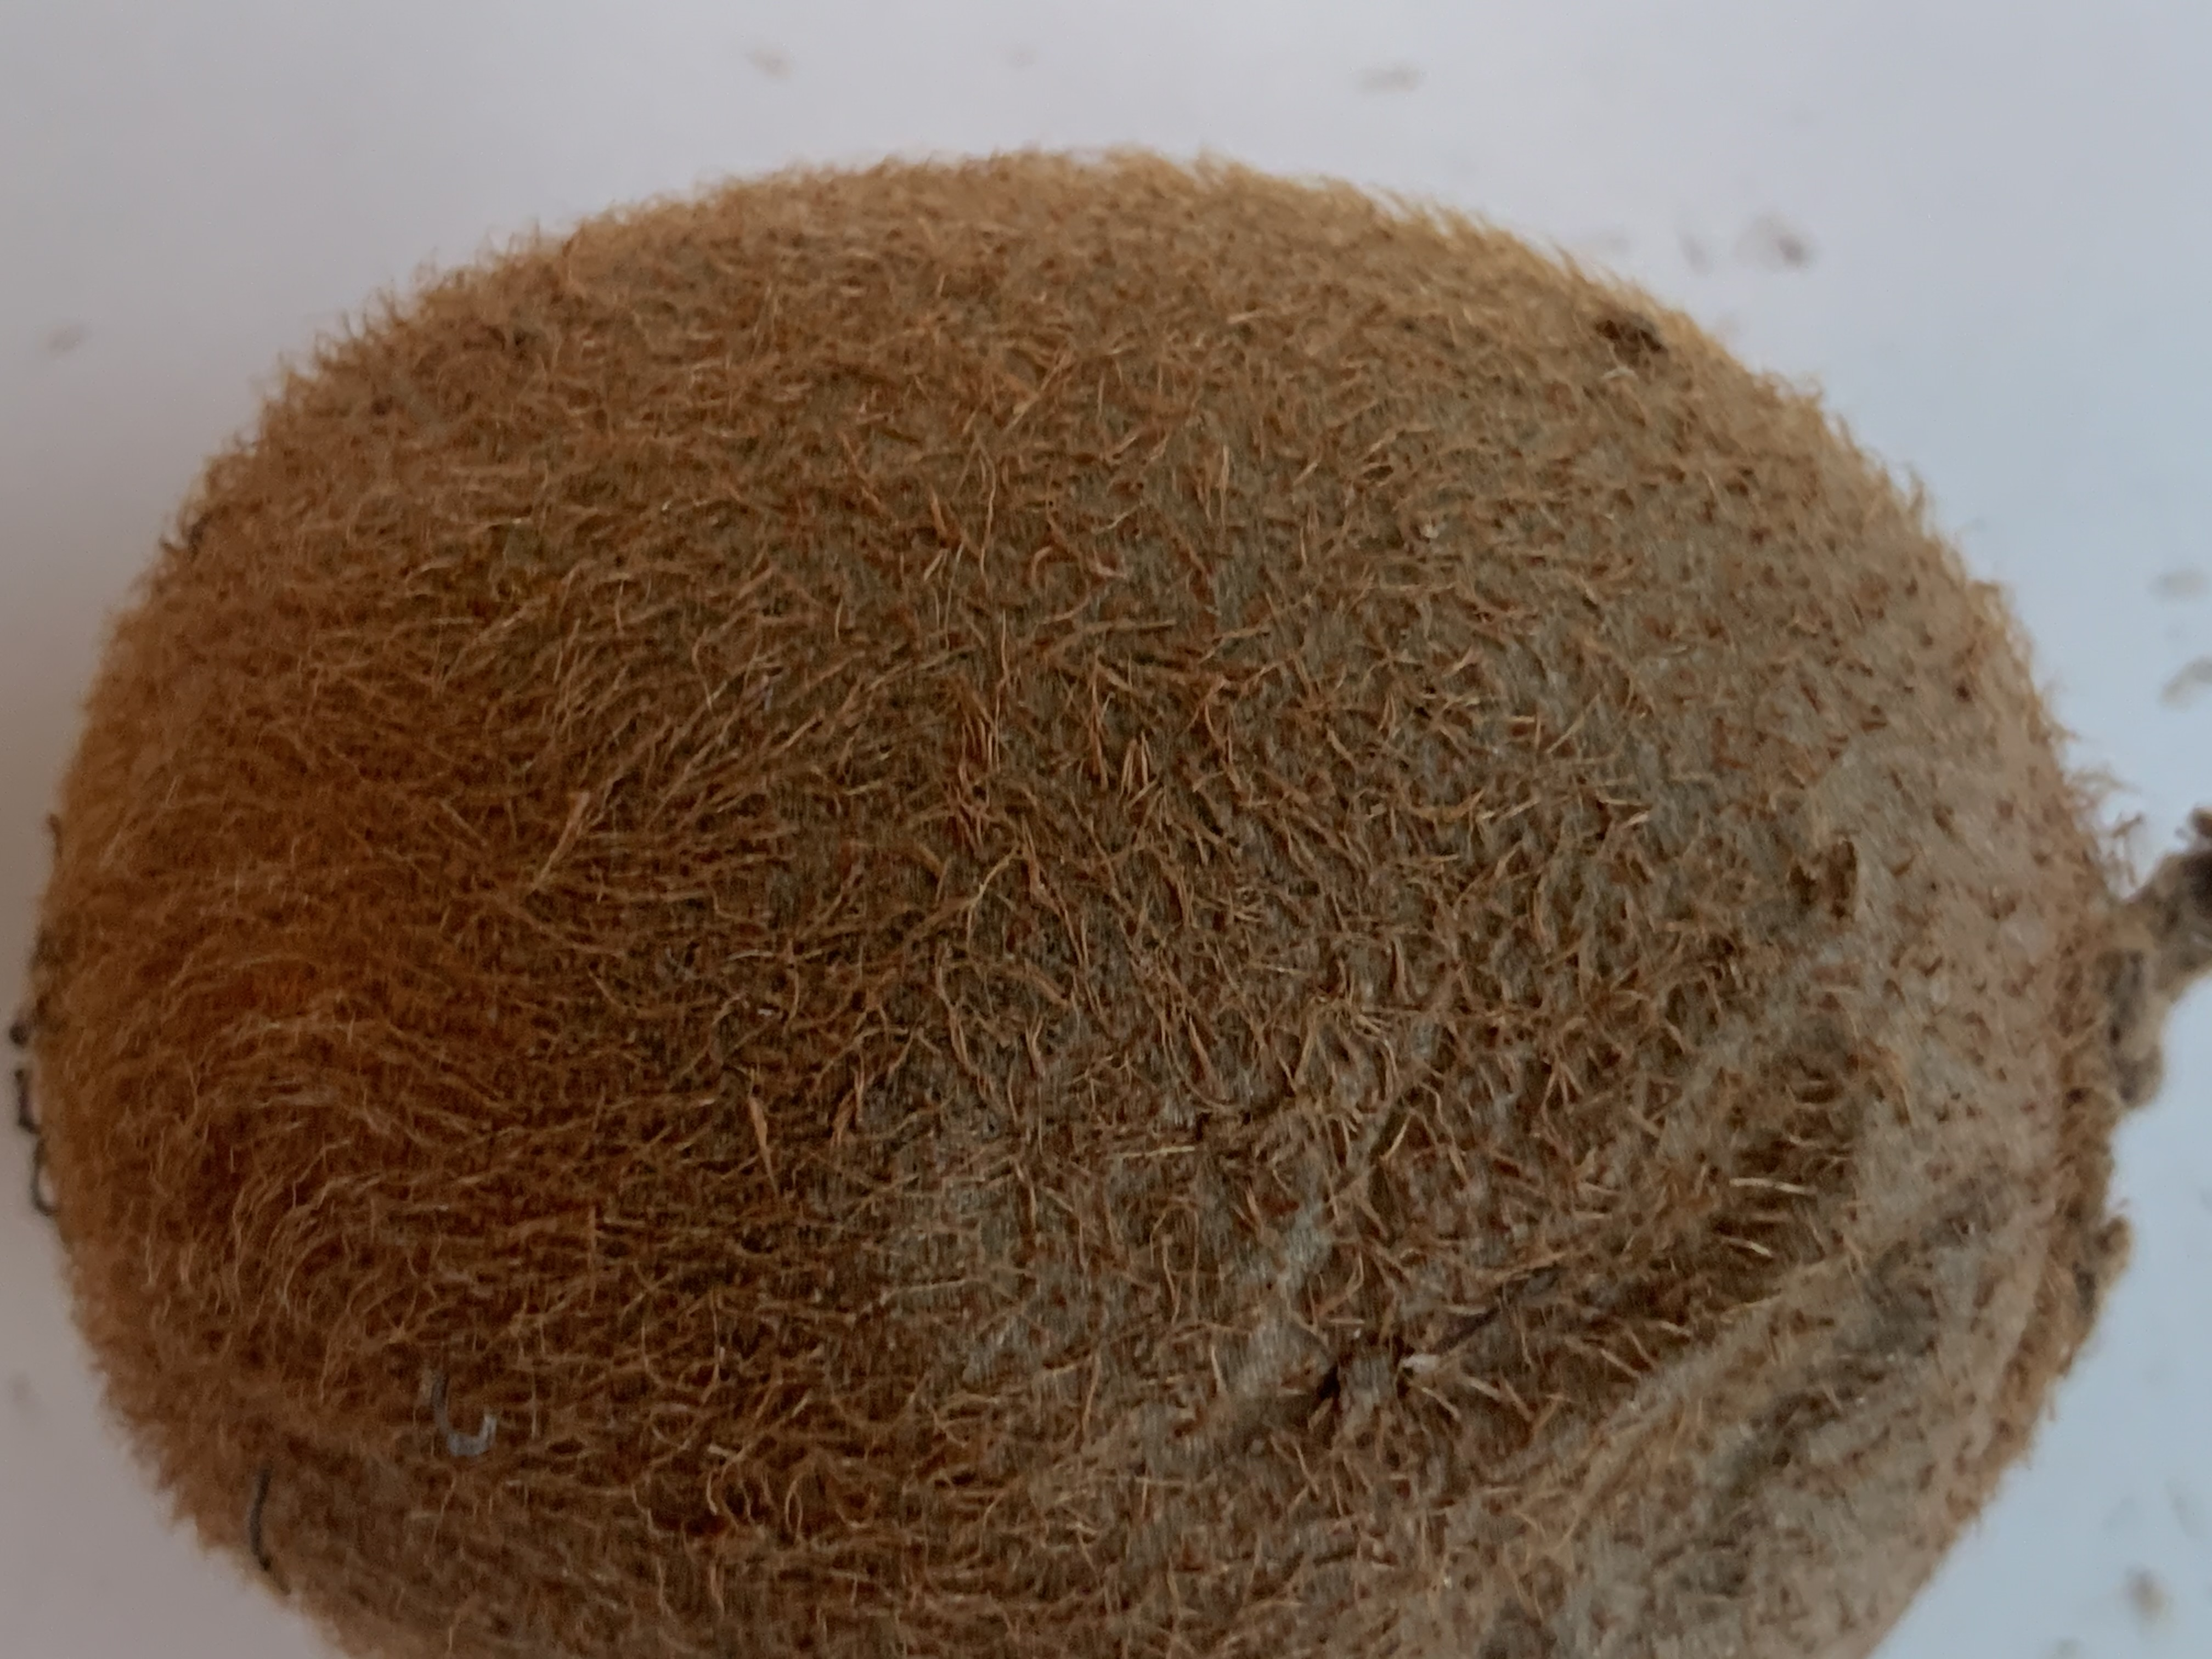kiwi: (31, 150, 2202, 1659)
